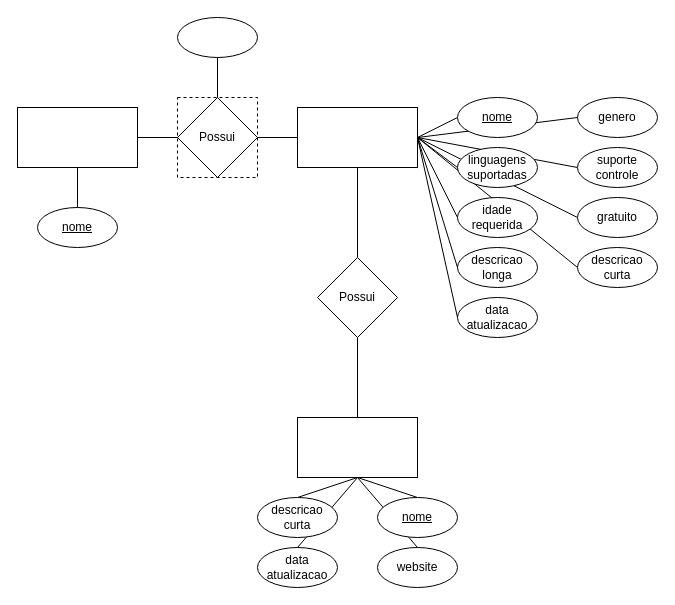
The diagram is 675 pixels wide and 605 high, and some of its shapes have lost their labels. The shapes that lost their labels are listed below. From the top down, each one's centre as x and y in pixels, then its label:
the point at 217,37: preco
the point at 77,137: Loja
the point at 357,137: Jogo
the point at 357,447: Empresa
